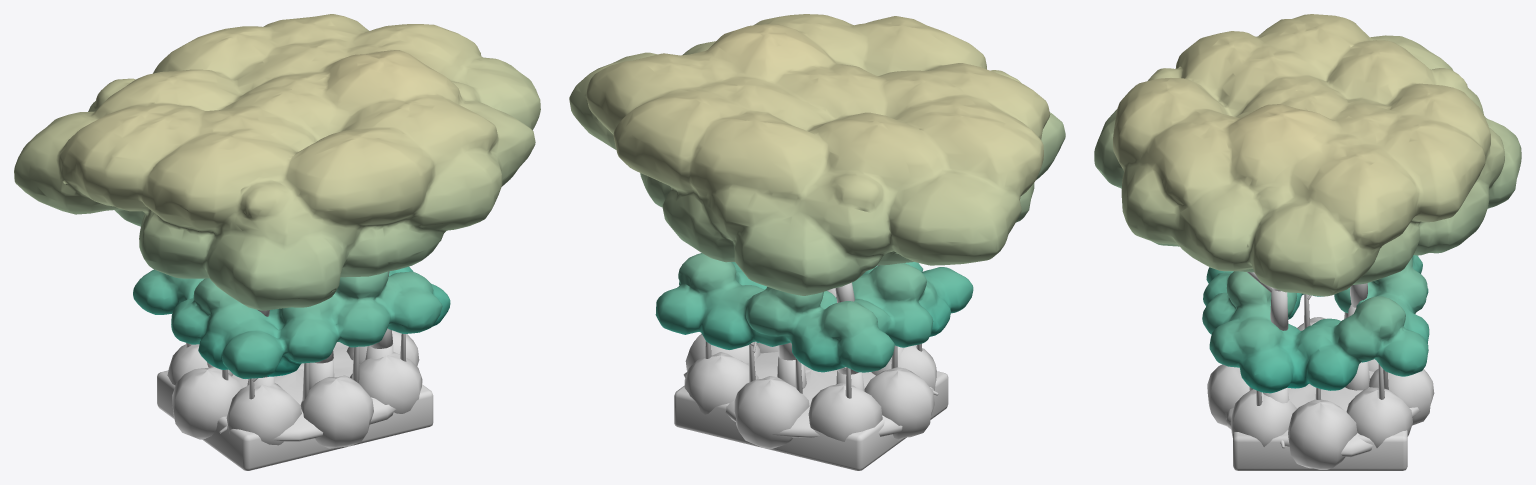
Rendered from beech_copse_0.glb.
The picture shows the model from 3 angles, left to right: view 1: azimuth 30°, elevation 25°; view 2: azimuth 150°, elevation 25°; view 3: azimuth 270°, elevation 25°; orthographic projection. The views are drawn at different scales.
Visible parts, largest first — view 1: beech_copse_0_Leaves, beech_copse_0_Bark; view 2: beech_copse_0_Leaves, beech_copse_0_Bark; view 3: beech_copse_0_Leaves, beech_copse_0_Bark, beech_copse_0_UpperBranches.
Boxes of the visible parts, <box> form: beech_copse_0_Leaves: <box>14,14,540,378</box>; beech_copse_0_Bark: <box>157,328,433,470</box>; beech_copse_0_Leaves: <box>569,14,1065,372</box>; beech_copse_0_Bark: <box>674,333,948,470</box>; beech_copse_0_Leaves: <box>1094,14,1521,393</box>; beech_copse_0_Bark: <box>1207,299,1434,470</box>; beech_copse_0_UpperBranches: <box>1247,272,1383,370</box>.
Size of the model in its own units: 21.07 by 15.26 by 17.13.
